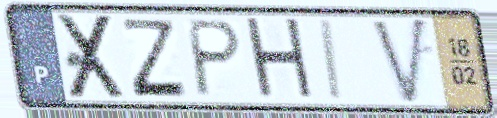H: (241, 15, 319, 105)
I: (318, 17, 346, 104)
P: (187, 17, 246, 100)
V: (368, 14, 430, 109)
X: (54, 12, 130, 102)
Z: (120, 16, 191, 100)
